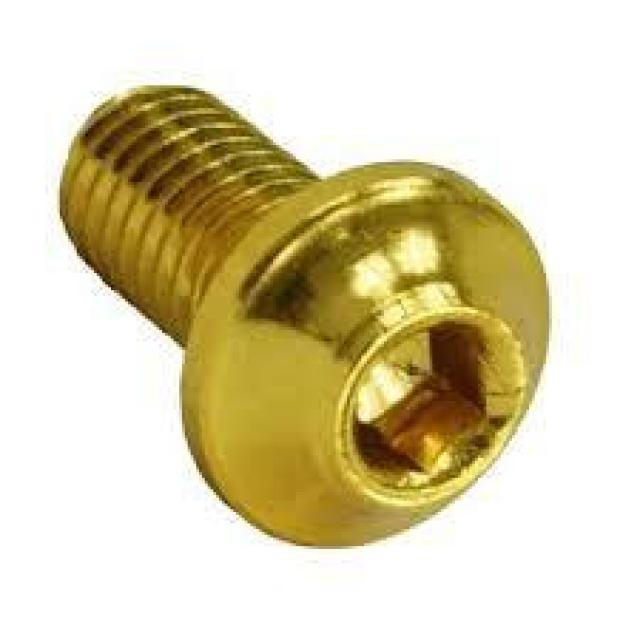Dry Waste: (36, 56, 562, 579)
